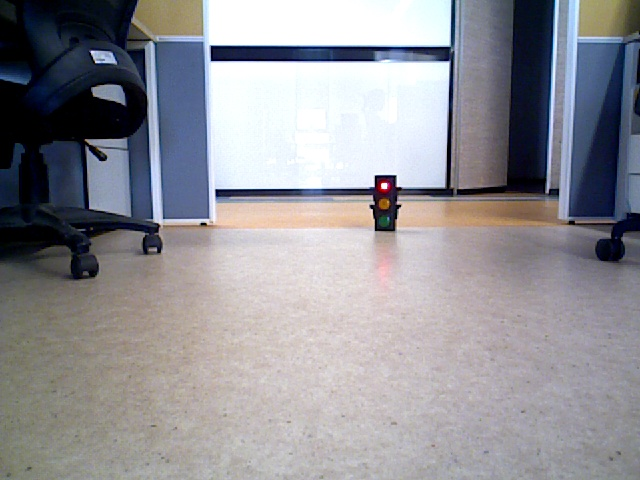red: (374, 174, 391, 228)
